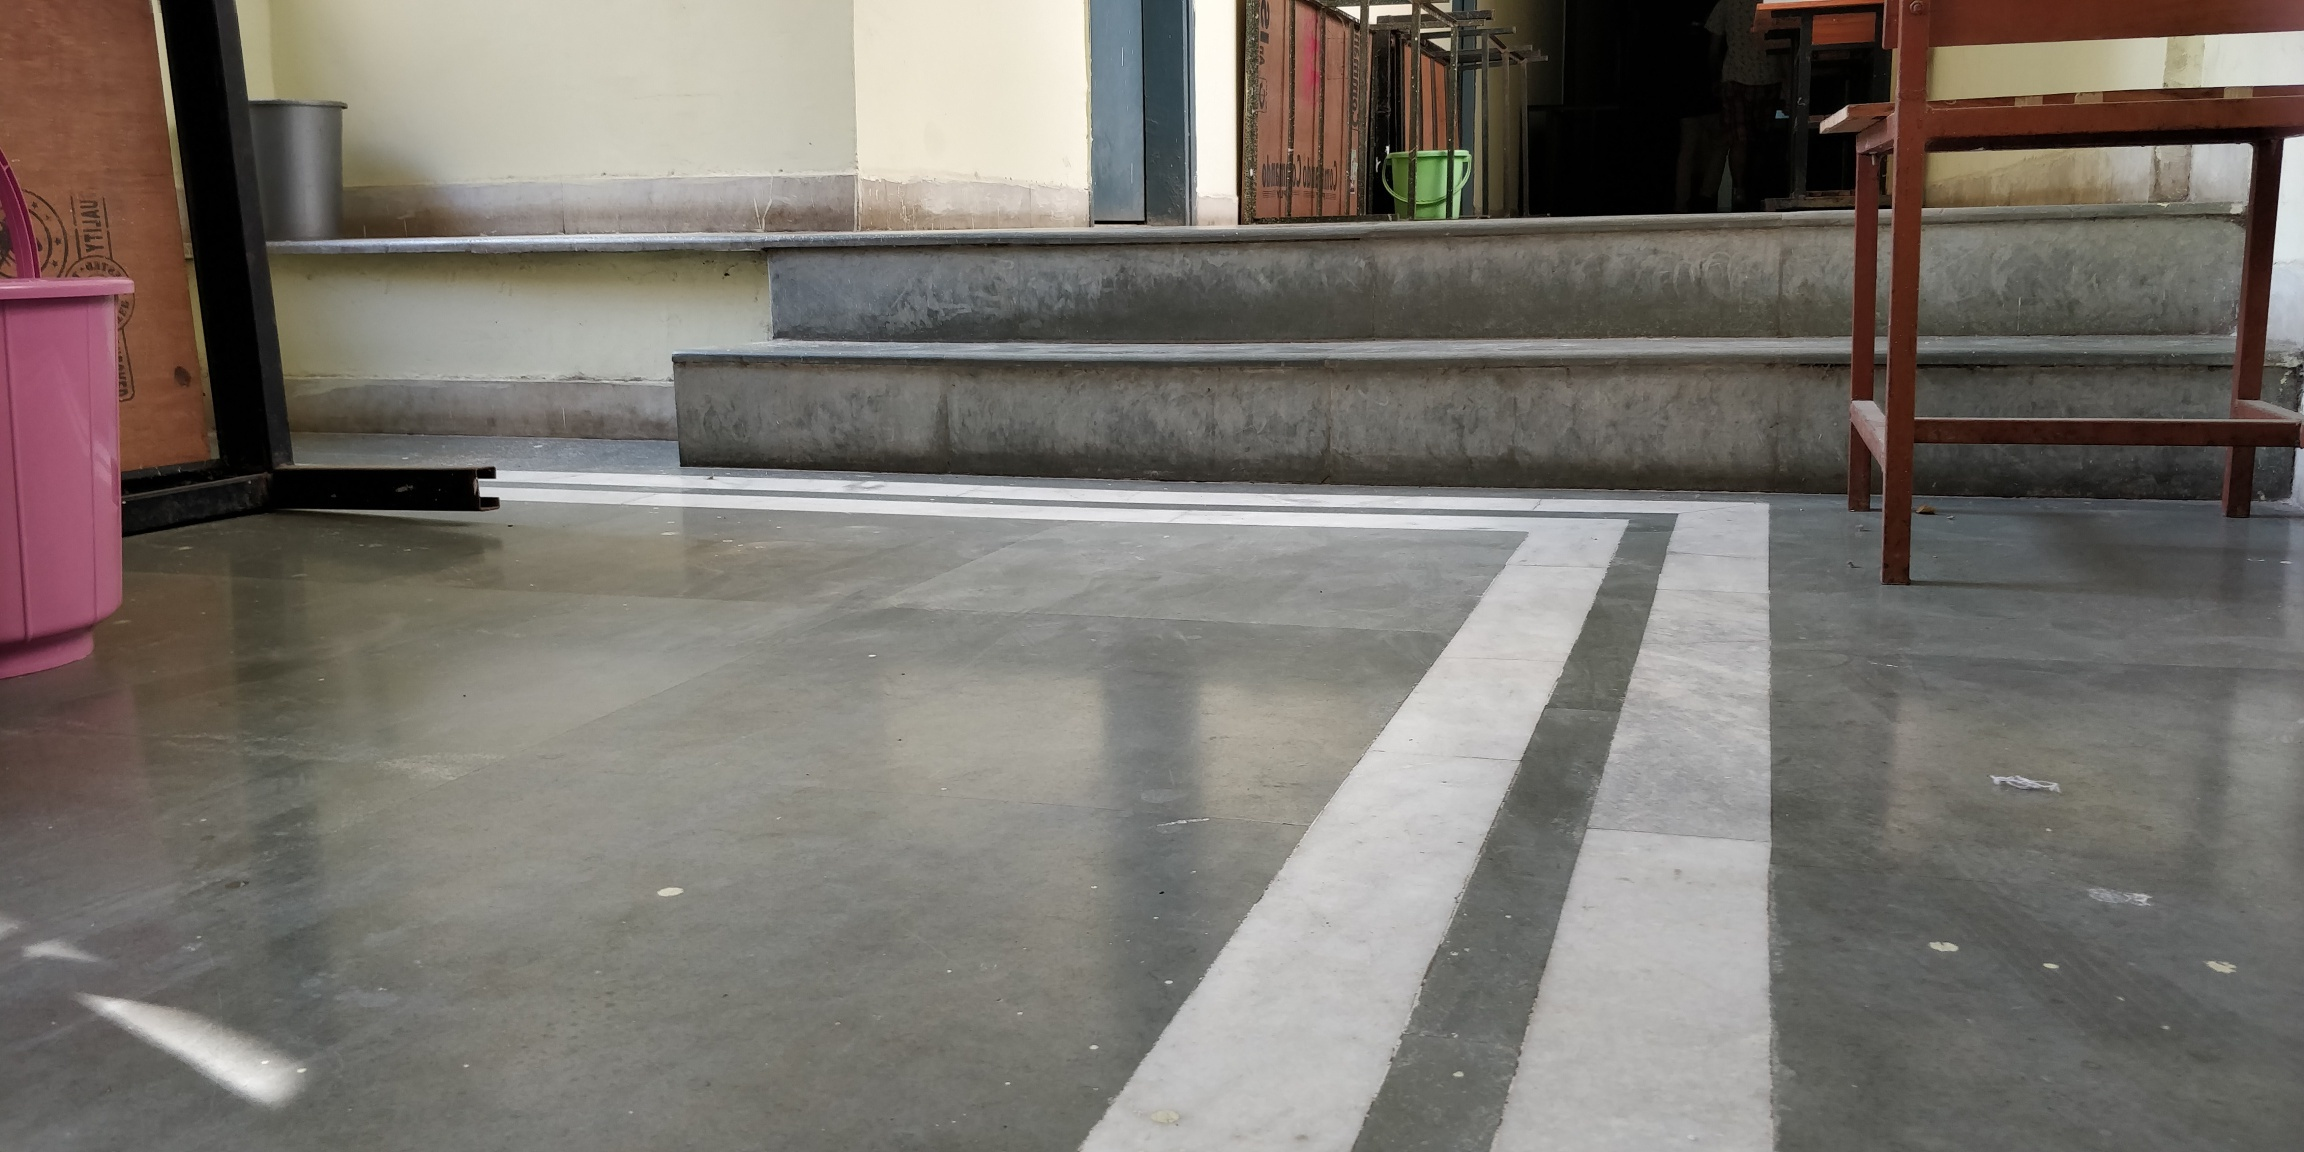stairs_up: (666, 194, 2304, 504)
